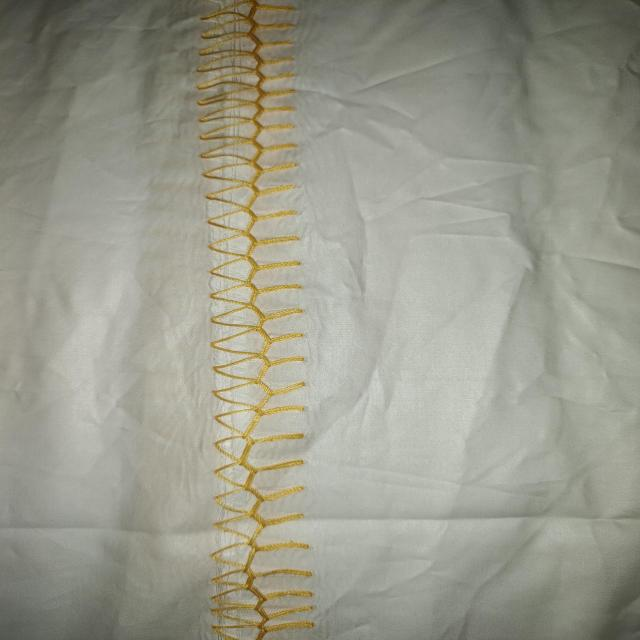gray stitch: (188, 2, 319, 640)
